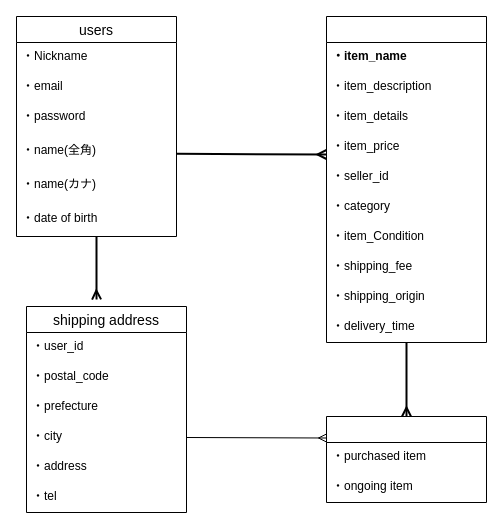
Image size: 503x529. Some labels were removed from this diagram. The shapes that lost their labels are listed below. From the top down, each one's box as (x1, y1, x2, y2) in pixels, then its label:
(326, 16, 486, 342): items
(326, 416, 486, 502): purchase record
